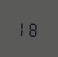eight: (28, 19, 36, 37)
one: (19, 19, 27, 36)
